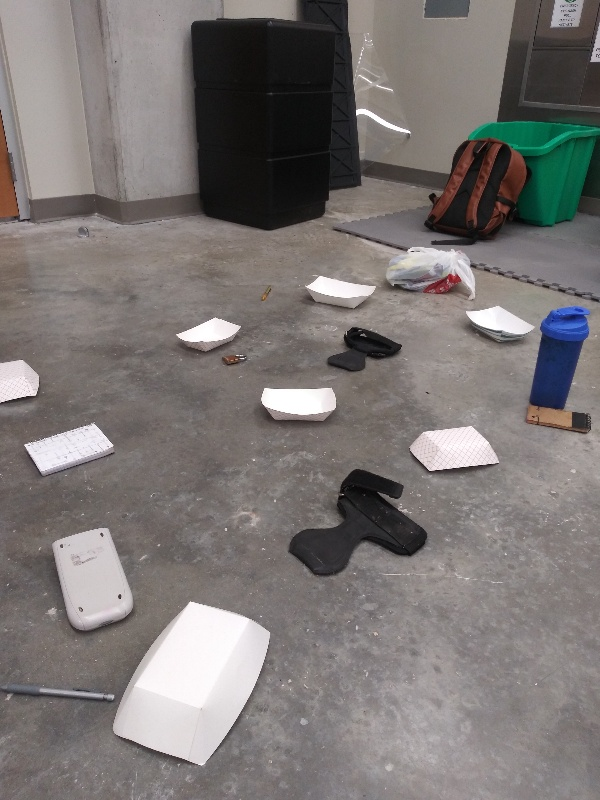plate: (106, 596, 276, 773), (406, 424, 503, 474), (258, 381, 341, 426), (462, 300, 539, 345), (300, 273, 380, 313), (173, 310, 244, 355), (2, 357, 46, 411)
